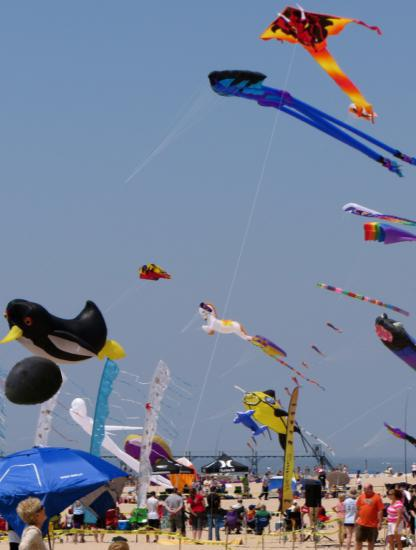Plum: (2, 351, 62, 411)
